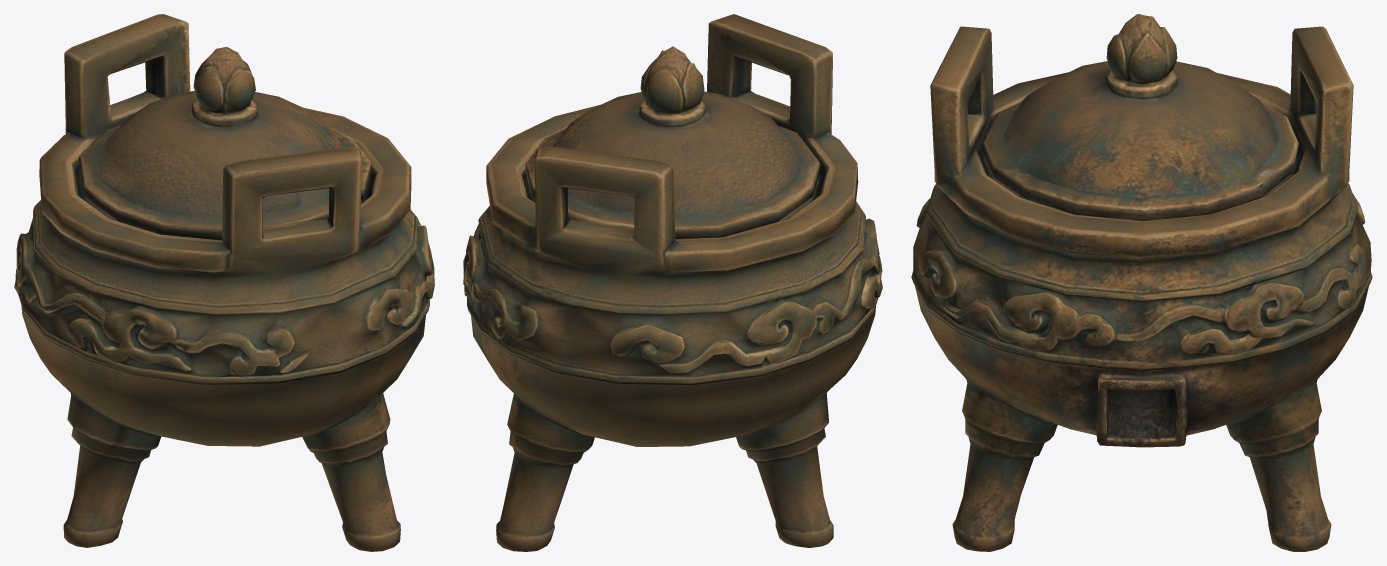
Rendered from prop_lo_dan.6281d98271.glb.
The picture shows the model from 3 angles, left to right: view 1: azimuth 30°, elevation 25°; view 2: azimuth 150°, elevation 25°; view 3: azimuth 270°, elevation 25°; orthographic projection. The views are drawn at different scales.
Visible parts, largest first — view 1: tripo_node_bf2c9afd-c009-472c-abb5-21b01acdc63d; view 2: tripo_node_bf2c9afd-c009-472c-abb5-21b01acdc63d; view 3: tripo_node_bf2c9afd-c009-472c-abb5-21b01acdc63d.
Boxes of the visible parts, x1,y1,x2,y2 form: tripo_node_bf2c9afd-c009-472c-abb5-21b01acdc63d: [14, 14, 434, 551]; tripo_node_bf2c9afd-c009-472c-abb5-21b01acdc63d: [463, 14, 882, 551]; tripo_node_bf2c9afd-c009-472c-abb5-21b01acdc63d: [911, 14, 1372, 551].
Size of what is drawn, in the model's own units: 0.8258 by 1 by 0.8552.
Materials: 1 (1 with a texture image).
